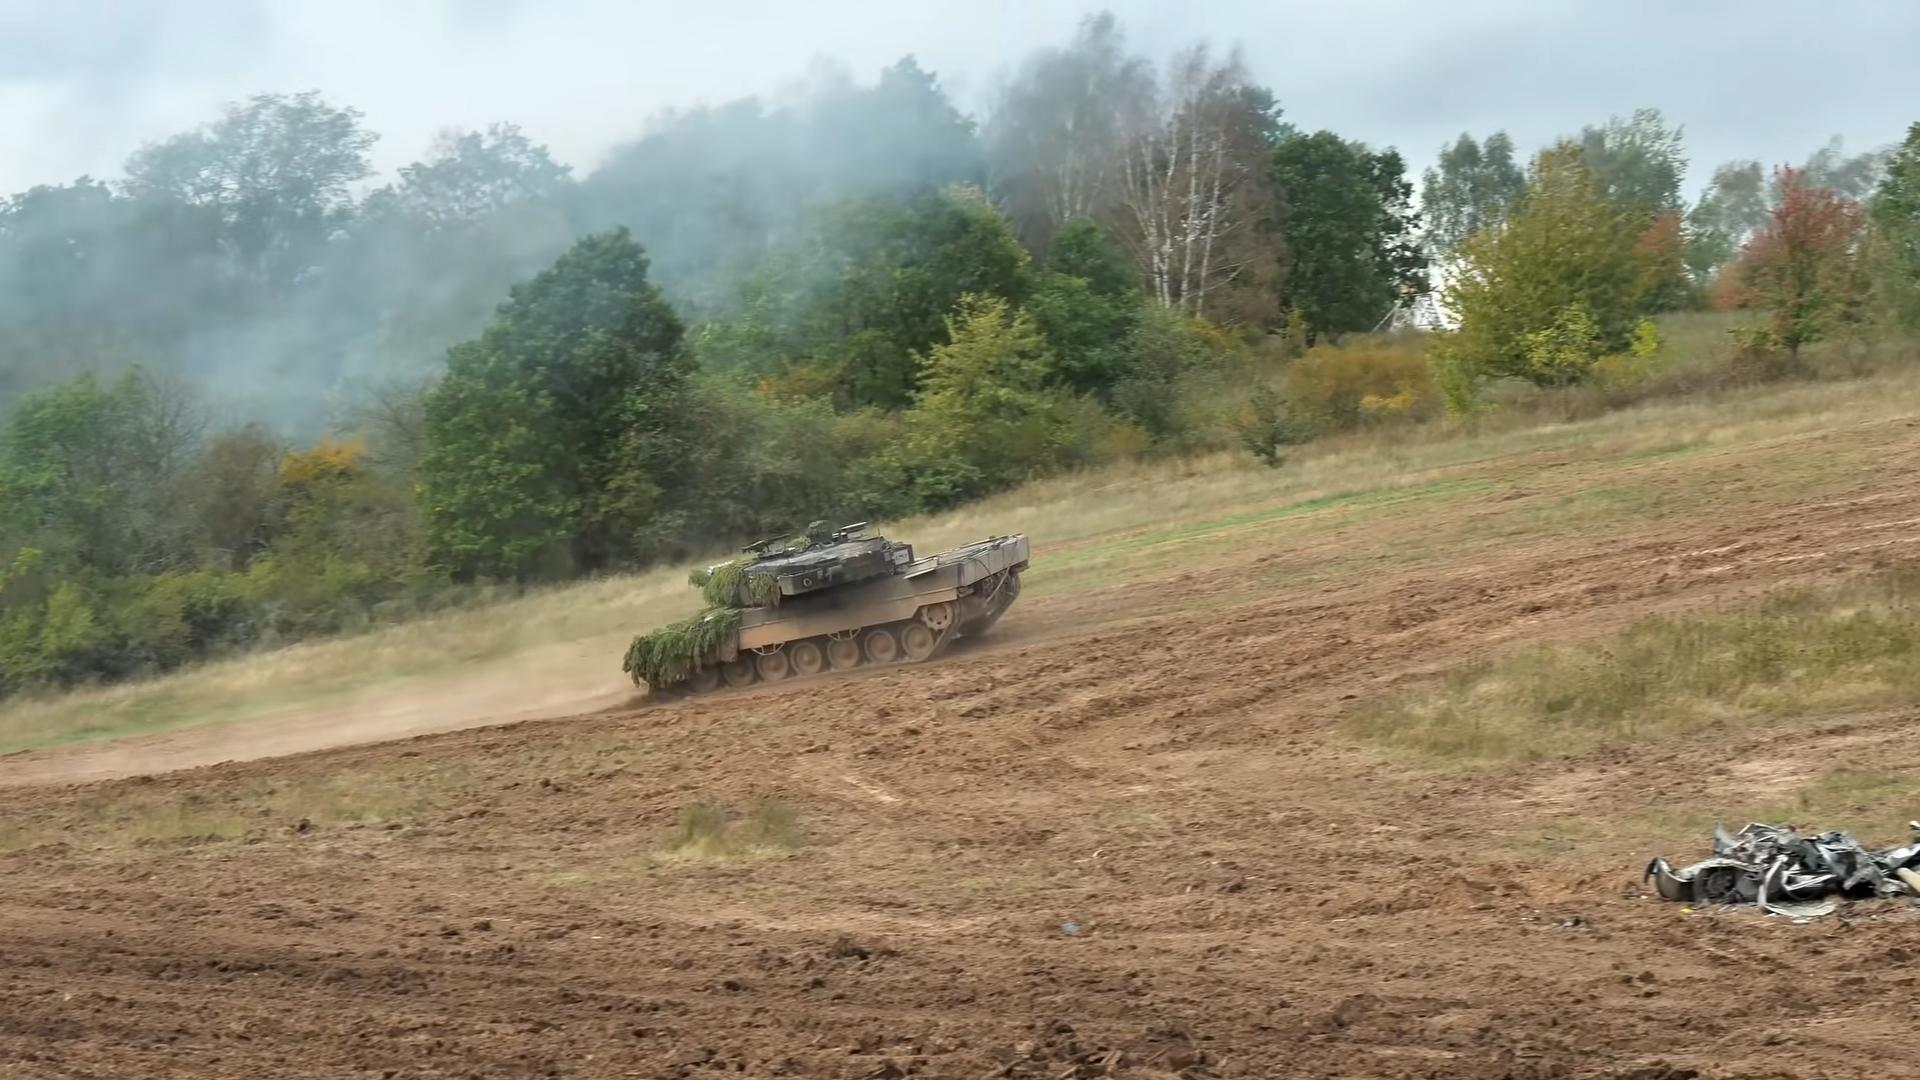tank: (630, 522, 1029, 698)
